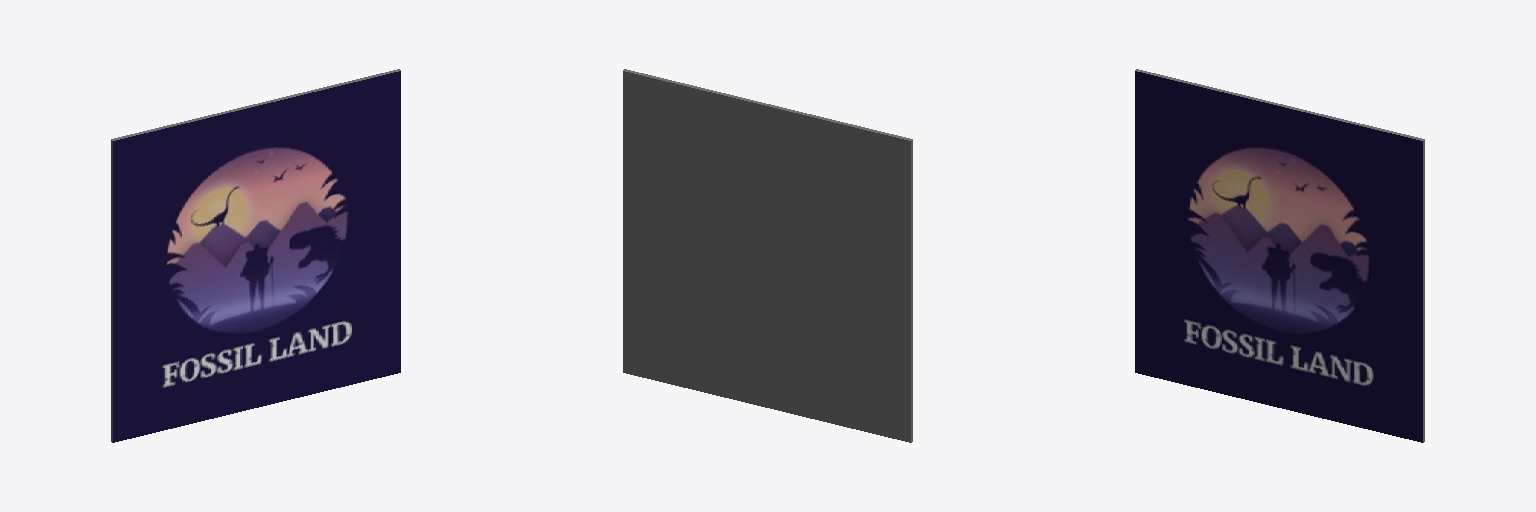
The picture shows the model from 3 angles: view 1: azimuth 30°, elevation 25°; view 2: azimuth 150°, elevation 25°; view 3: azimuth 330°, elevation 25°; orthographic projection.
Parts seen in each view (by area): view 1: pCube10; view 2: pCube10; view 3: pCube10.
Part boxes in pixels (left/top/right/bottom): pCube10: left=111, top=69, right=400, bottom=442; pCube10: left=623, top=69, right=912, bottom=442; pCube10: left=1135, top=69, right=1424, bottom=442.
Size of the model in its own units: 1 by 1 by 0.0148.
Materials: 2 (1 with a texture image).